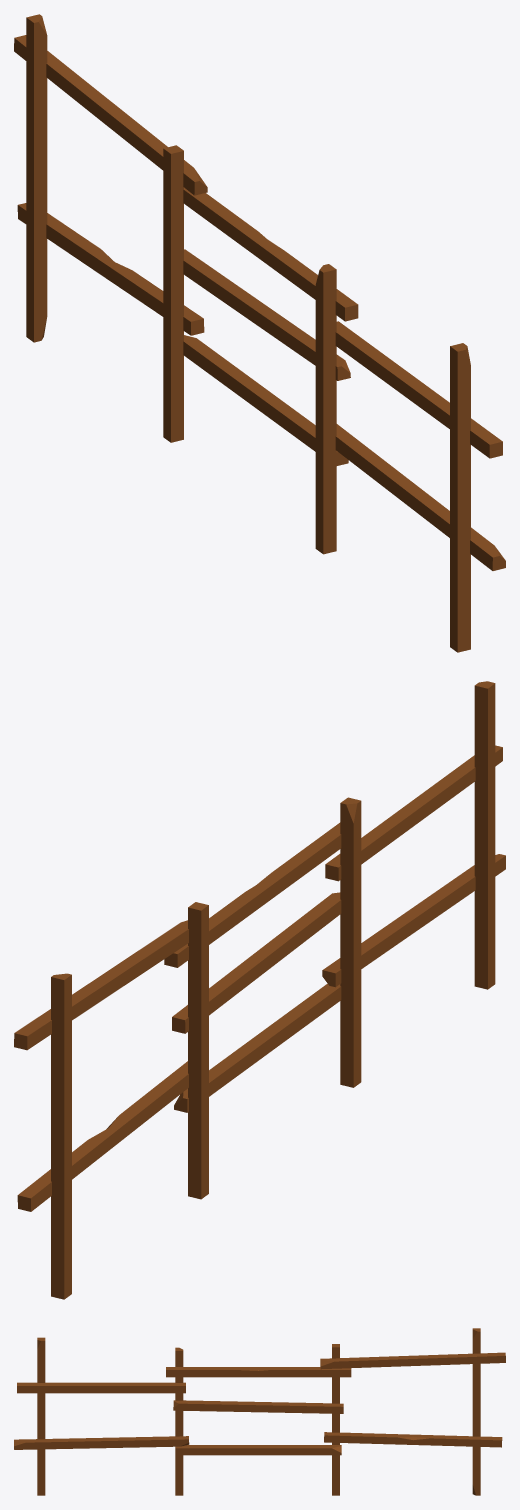
Rendered from fence1.fbx.
The picture shows the model from 3 angles, top to bottom: view 1: azimuth 30°, elevation 25°; view 2: azimuth 150°, elevation 25°; view 3: azimuth 270°, elevation 25°; orthographic projection. The views are drawn at different scales.
Parts seen in each view (by area): view 1: Cube.006; view 2: Cube.006; view 3: Cube.006.
Part boxes in pixels (x1=…): Cube.006: x1=14, y1=14, x2=505, y2=652; Cube.006: x1=14, y1=681, x2=505, y2=1299; Cube.006: x1=14, y1=1328, x2=505, y2=1495.
Bounding box in the file's own units: 9.1 × 109 × 295.
